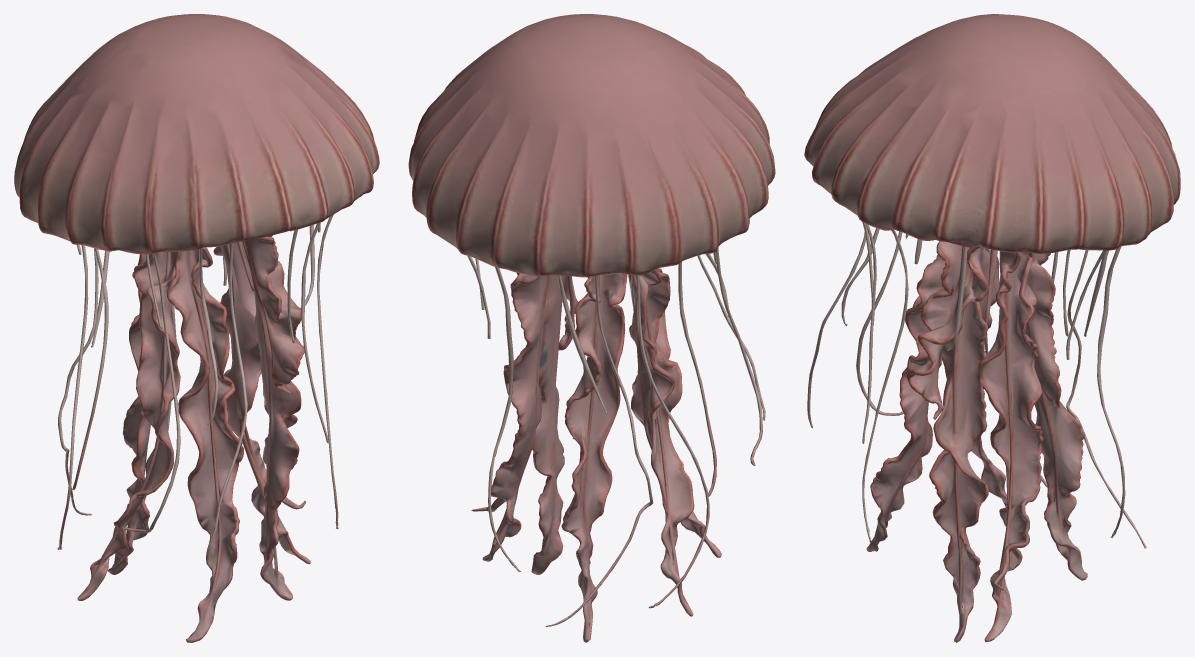
The model's file is jelly-mobile.glb.
3 renders of one model, left to right at view 1: azimuth 30°, elevation 25°; view 2: azimuth 150°, elevation 25°; view 3: azimuth 270°, elevation 25°, orthographic.
Parts seen in each view (by area): view 1: tripo_node_d184716e-f848-41a2-87f4-a25a35358fce; view 2: tripo_node_d184716e-f848-41a2-87f4-a25a35358fce; view 3: tripo_node_d184716e-f848-41a2-87f4-a25a35358fce.
Boxes of the visible parts, <box> form: tripo_node_d184716e-f848-41a2-87f4-a25a35358fce: <box>14,14,379,642</box>; tripo_node_d184716e-f848-41a2-87f4-a25a35358fce: <box>408,14,775,642</box>; tripo_node_d184716e-f848-41a2-87f4-a25a35358fce: <box>804,14,1180,642</box>.
Size of the model in its own units: 0.2881 by 0.5 by 0.2965.
Materials: 1 (1 with a texture image).
